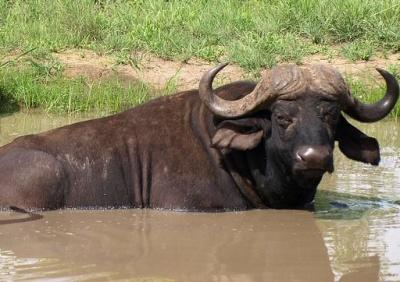buffalo: (0, 62, 400, 214)
